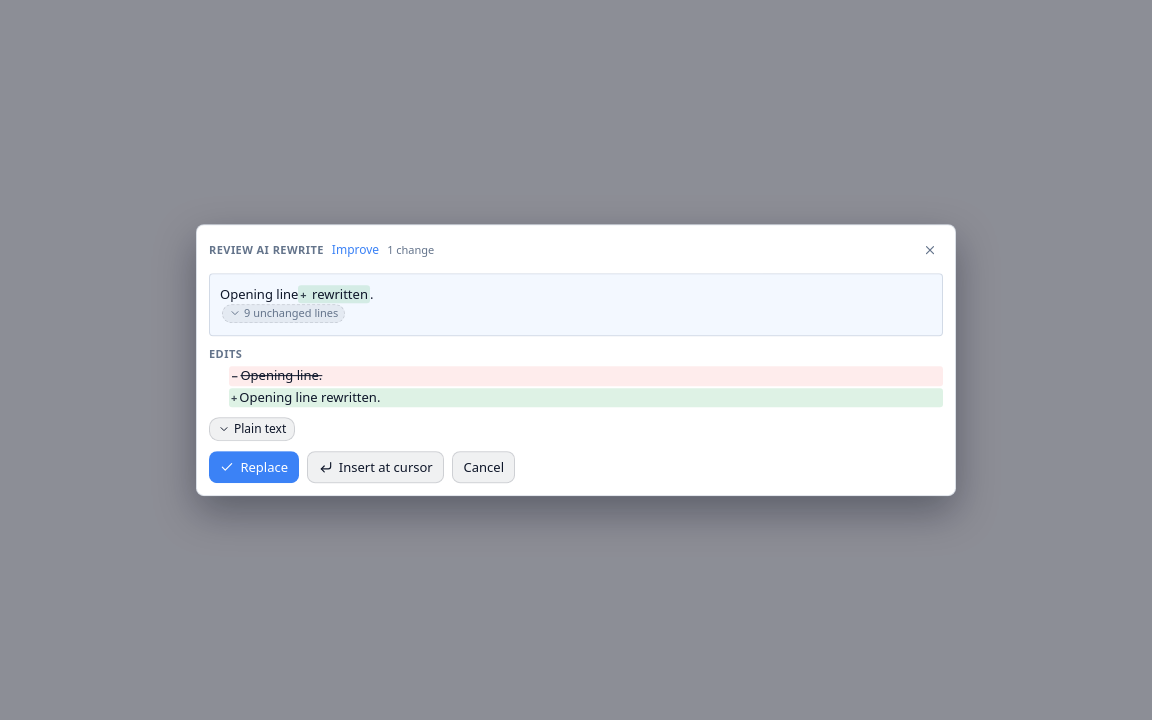
Test case: QuickActionDiff › inline edit markup (§3.3.B4.f5) › folds a long untouched stretch and unfolds it on request
Step 1. Click the button with test id "quick-action-diff-fold" showing "9 unchanged lines" → (284, 314), box [222, 304, 345, 323]
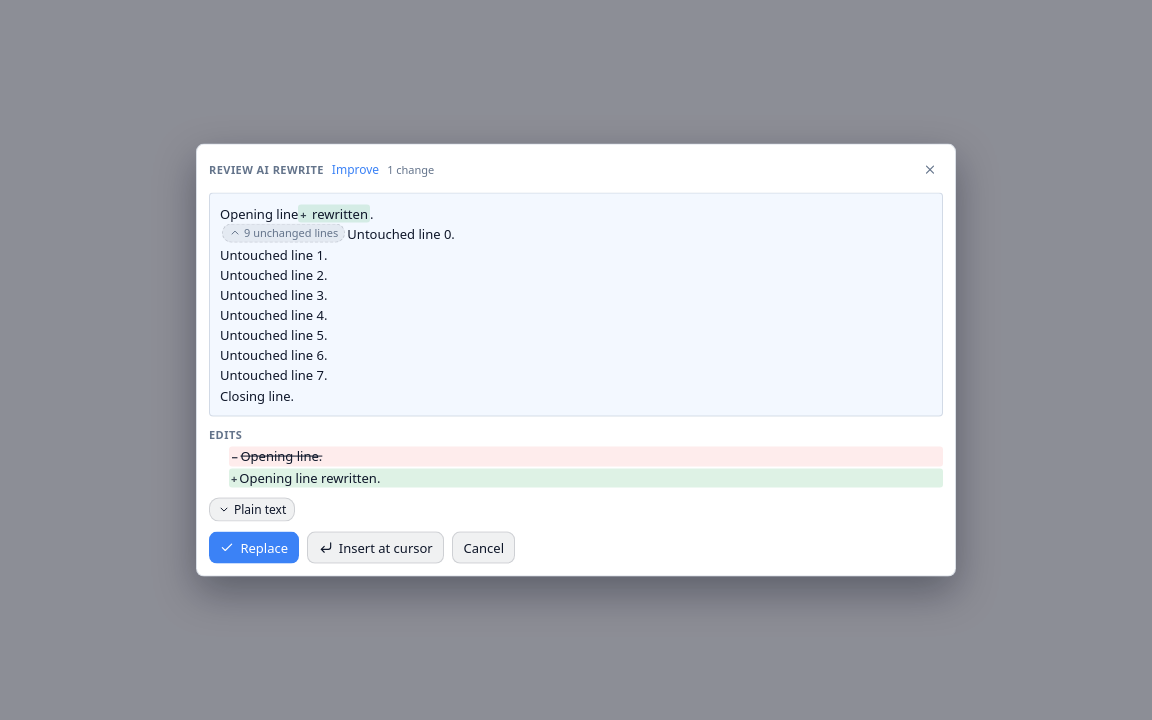
Expected: the button with test id "quick-action-diff-fold" is expanded, [222, 224, 345, 242]
Expected: the element with test id "quick-action-diff-merged" shows "Untouched line 4.", [220, 225, 455, 404]
